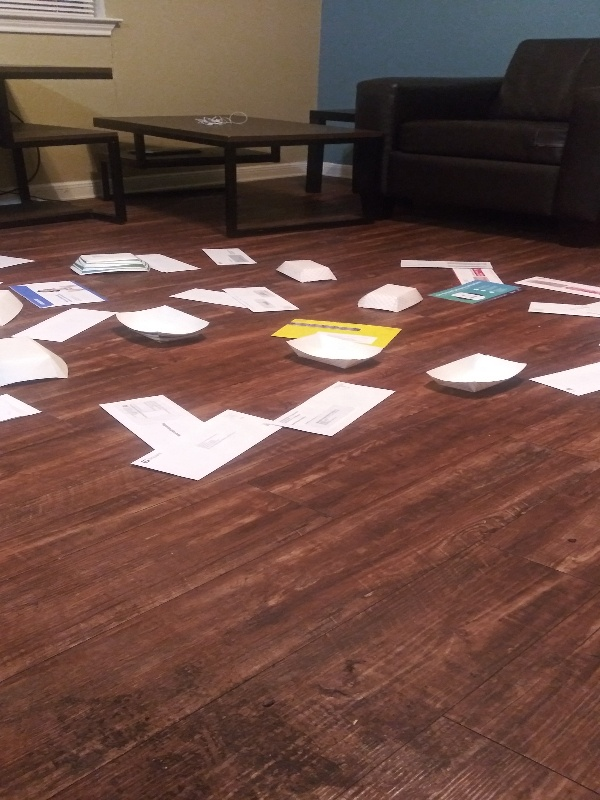plate: (423, 349, 532, 399), (110, 300, 215, 351), (284, 326, 386, 374), (1, 330, 73, 391), (64, 249, 156, 282), (351, 281, 426, 319), (273, 253, 340, 287), (1, 287, 25, 331)
